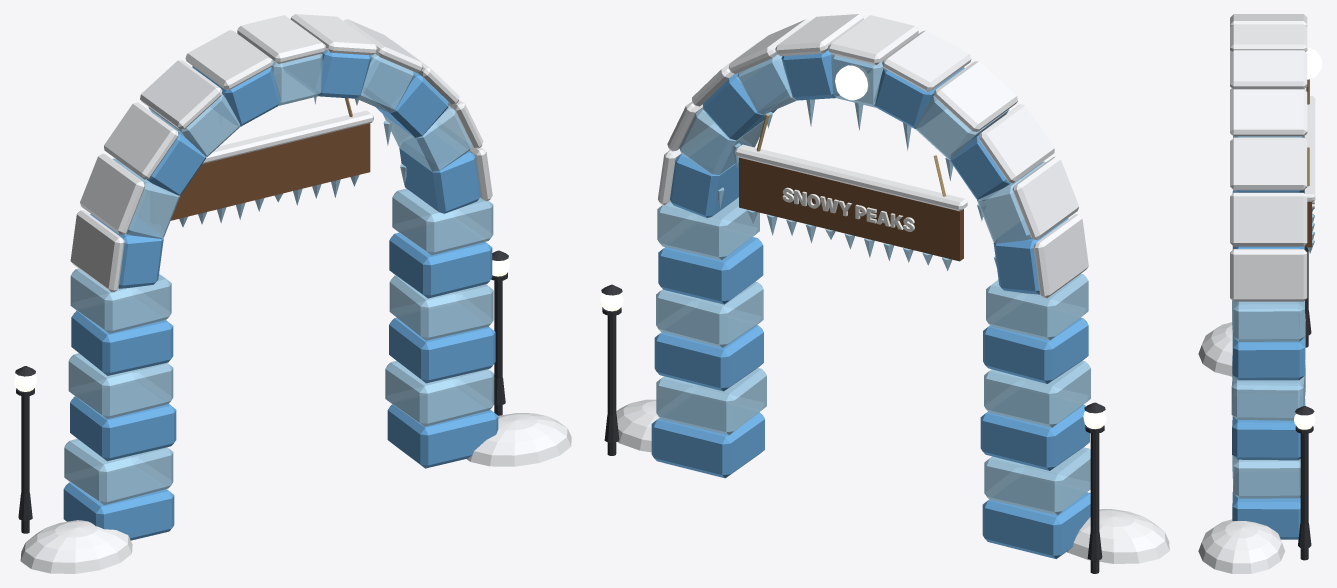
File: IceArch.fbx
3 renders of one model, left to right at view 1: azimuth 30°, elevation 25°; view 2: azimuth 150°, elevation 25°; view 3: azimuth 270°, elevation 25°, orthographic. The views are drawn at different scales.
Parts seen in each view (by area): view 1: IceArch_IceDeep, IceArch_Ice, IceArch_Snow, IceArch_WoodDark, IceArch_Charcoal; view 2: IceArch_IceDeep, IceArch_Ice, IceArch_Snow, IceArch_WoodDark, IceArch_Charcoal, IceArch_White, IceArch_IceGlow; view 3: IceArch_Snow, IceArch_Ice, IceArch_IceDeep, IceArch_Charcoal, IceArch_IceGlow, IceArch_WindowGlow, IceArch_WoodDark, IceArch_Rope.
Boxes of the visible parts, x1,y1,x2,y2 form: IceArch_IceDeep: (63,49,498,540); IceArch_Ice: (64,53,494,505); IceArch_Snow: (20,14,571,573); IceArch_WoodDark: (170,123,370,220); IceArch_Charcoal: (15,250,508,533); IceArch_IceDeep: (651,50,1090,558); IceArch_Ice: (656,54,1090,515); IceArch_Snow: (616,14,1169,563); IceArch_WoodDark: (739,157,963,261); IceArch_Charcoal: (601,284,1105,573); IceArch_White: (782,187,914,231); IceArch_IceGlow: (835,65,869,100); IceArch_Snow: (1198,14,1315,573); IceArch_Ice: (1231,136,1314,498); IceArch_IceDeep: (1232,89,1305,539); IceArch_Charcoal: (1295,213,1314,560); IceArch_IceGlow: (1306,47,1322,79); IceArch_WindowGlow: (1294,204,1315,429); IceArch_WoodDark: (1304,202,1311,247); IceArch_Rope: (1306,79,1309,186).
Bounding box in the file's own units: 32.01 × 25.7 × 6.92.
